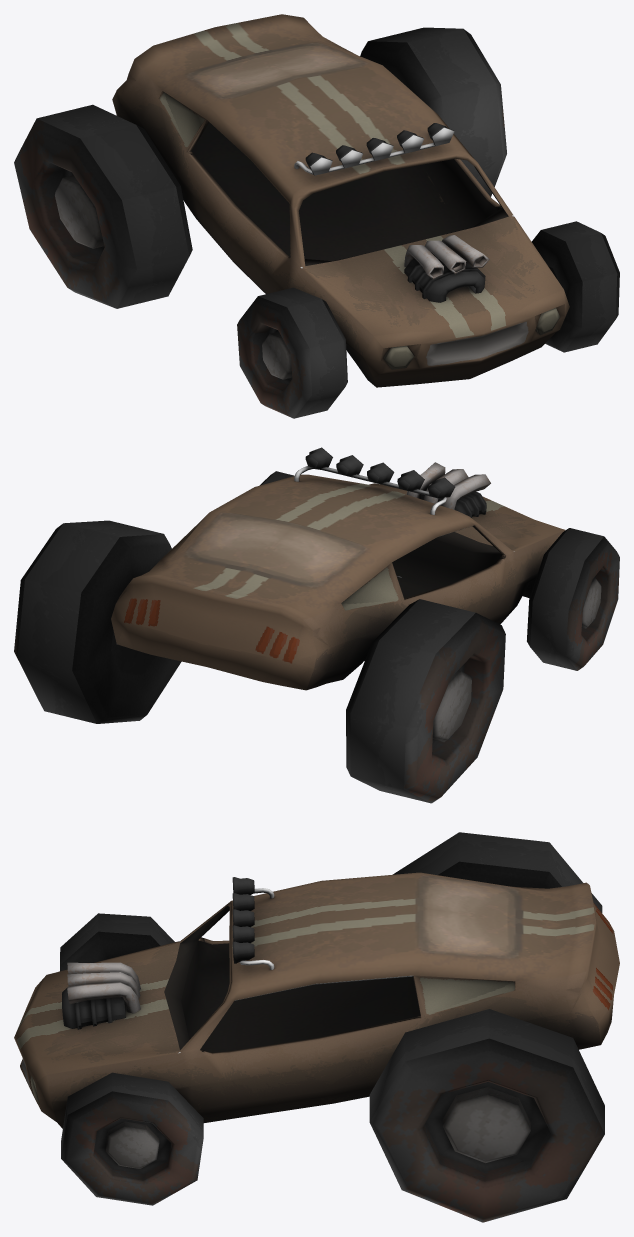
File: car.fbx
The picture shows the model from 3 angles, top to bottom: view 1: azimuth 30°, elevation 25°; view 2: azimuth 150°, elevation 25°; view 3: azimuth 270°, elevation 25°; orthographic projection. The views are drawn at different scales.
Parts seen in each view (by area): view 1: BezierCurve, Plane.016, Plane.010, Plane.014, Plane.015; view 2: BezierCurve, Plane.016, Plane.014, Plane.010; view 3: BezierCurve, Plane.014, Plane.015, Plane.016, Plane.010.
Boxes of the visible parts, x1,y1,x2,y2 form: BezierCurve: [112, 14, 569, 387]; Plane.016: [14, 104, 192, 308]; Plane.010: [237, 287, 347, 418]; Plane.014: [360, 27, 506, 196]; Plane.015: [531, 221, 619, 352]; BezierCurve: [111, 447, 565, 690]; Plane.016: [346, 599, 505, 803]; Plane.014: [14, 520, 181, 723]; Plane.010: [527, 528, 619, 670]; BezierCurve: [14, 872, 619, 1128]; Plane.014: [369, 1009, 604, 1222]; Plane.015: [61, 1072, 203, 1205]; Plane.016: [393, 832, 602, 912]; Plane.010: [60, 913, 174, 971].
Size of the model in its own units: 317 by 150 by 372.
